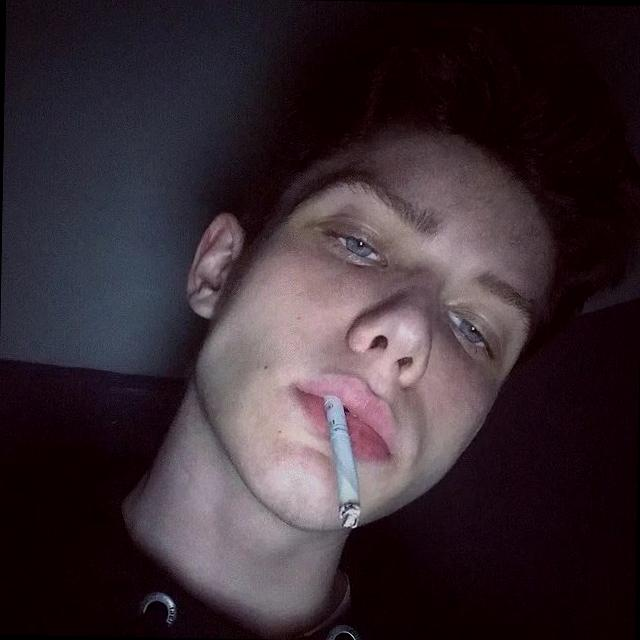cigarette: (314, 389, 364, 532)
